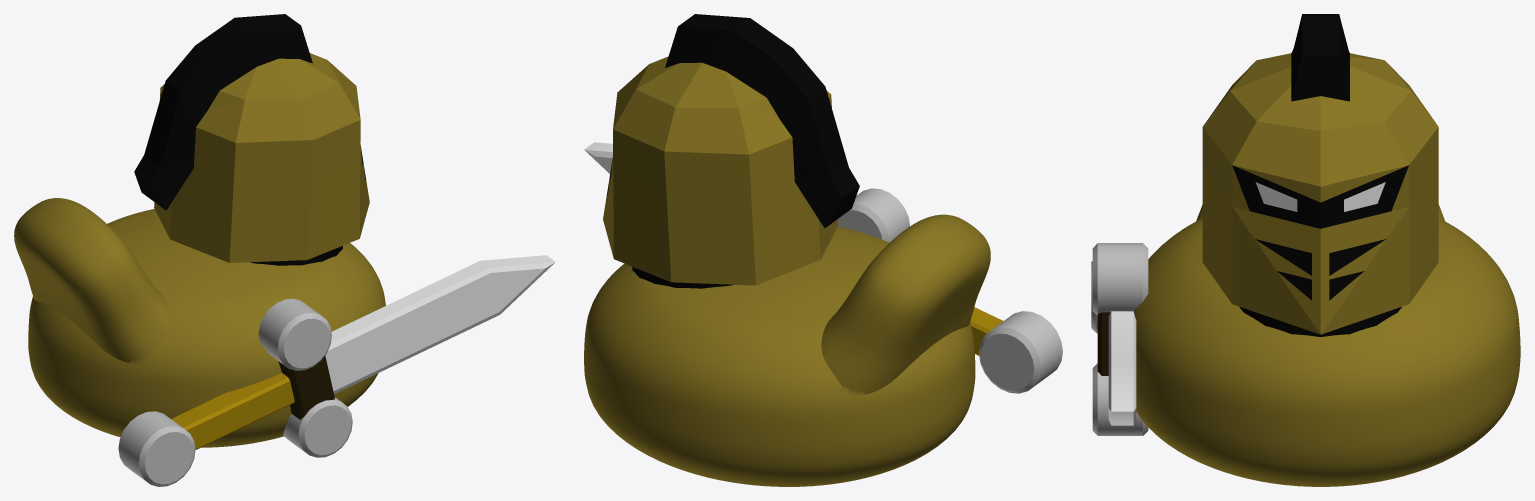
The model's file is DuckKnightro.fbx.
3 renders of one model, left to right at view 1: azimuth 30°, elevation 25°; view 2: azimuth 150°, elevation 25°; view 3: azimuth 270°, elevation 25°, orthographic. The views are drawn at different scales.
Parts seen in each view (by area): view 1: polySurface19; view 2: polySurface19; view 3: polySurface19.
Part boxes in pixels (x1,y1,x2,y2): polySurface19: (14, 14, 555, 486); polySurface19: (584, 14, 1062, 486); polySurface19: (1091, 14, 1520, 486).
Bounding box in the file's own units: 4.22 × 3.53 × 3.11.
